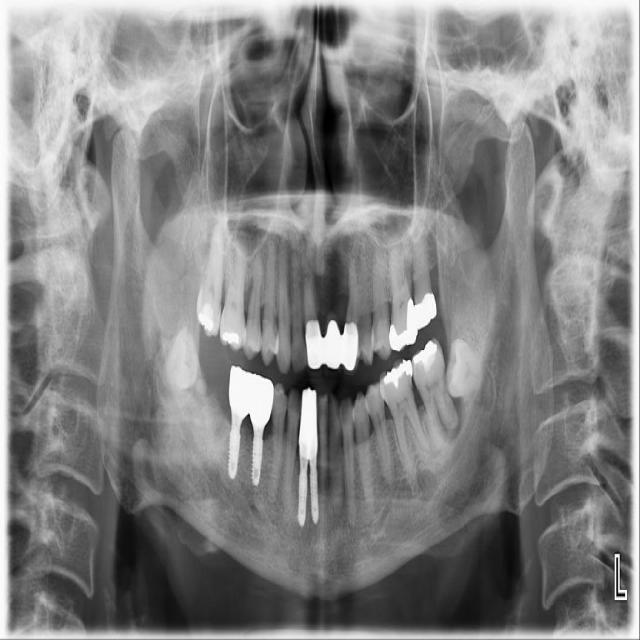52: (214, 363, 284, 430), (396, 333, 455, 394), (367, 351, 426, 409), (304, 319, 360, 372), (388, 296, 419, 354), (297, 387, 318, 461), (194, 288, 223, 339), (218, 309, 246, 353), (412, 290, 439, 330)
73: (612, 581, 618, 590)
BioHorizons Implant: (407, 199, 437, 330)
Biomet 3i Implant: (440, 336, 503, 406)
Blue Sky Bio Implant: (404, 335, 462, 436)
Caries: (194, 198, 227, 341)
Keystone Dental Implant: (159, 324, 204, 393)
